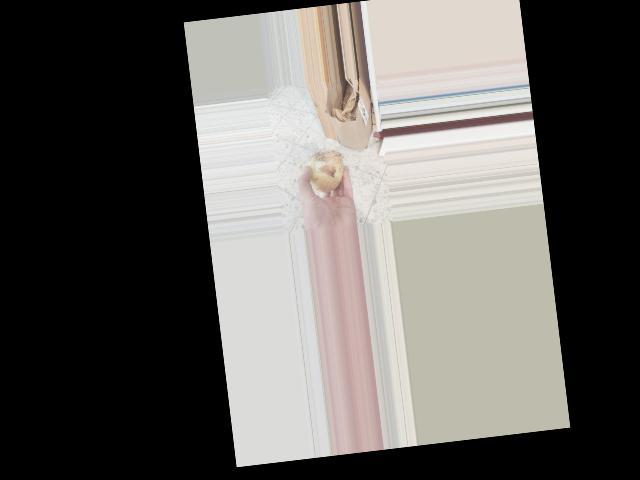onion: (296, 147, 347, 199)
